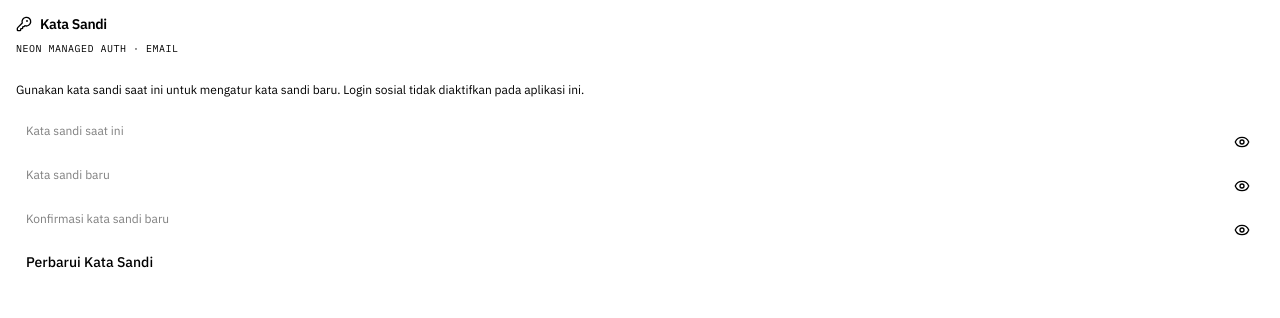
Test: Formulir kata sandi Neon Auth › menolak kata sandi baru yang pendek atau tidak cocok
Type "lama1234" into the password field with placeholder "Kata sandi saat ini" at (640, 130), box [16,114,1264,146]
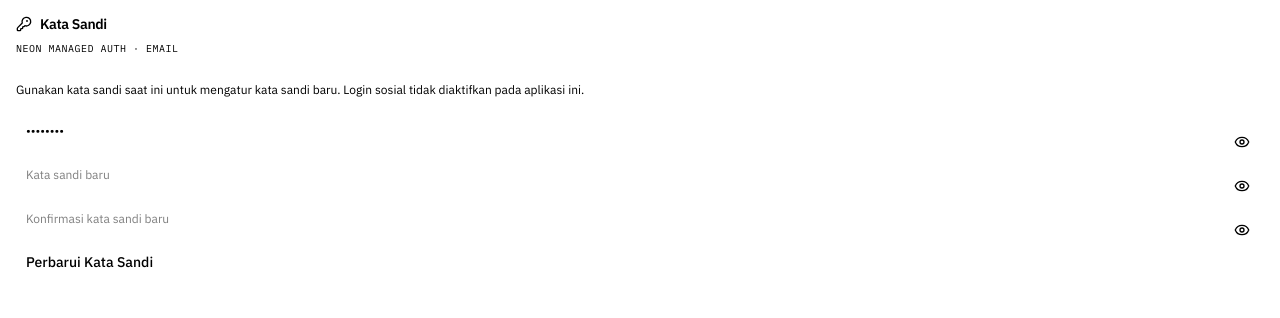
Type "pendek" into the password field with placeholder "Kata sandi baru" at (640, 174), box [16,158,1264,190]
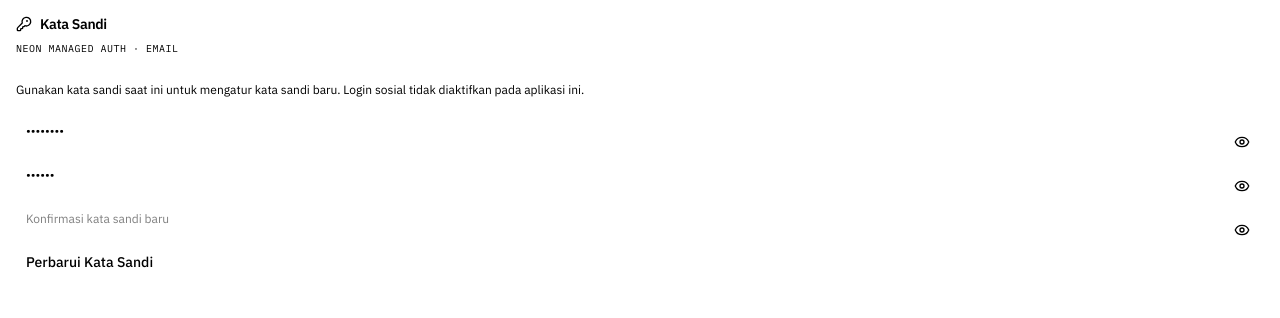
Type "berbeda" into the password field with placeholder "Konfirmasi kata sandi baru" at (640, 218), box [16,202,1264,234]
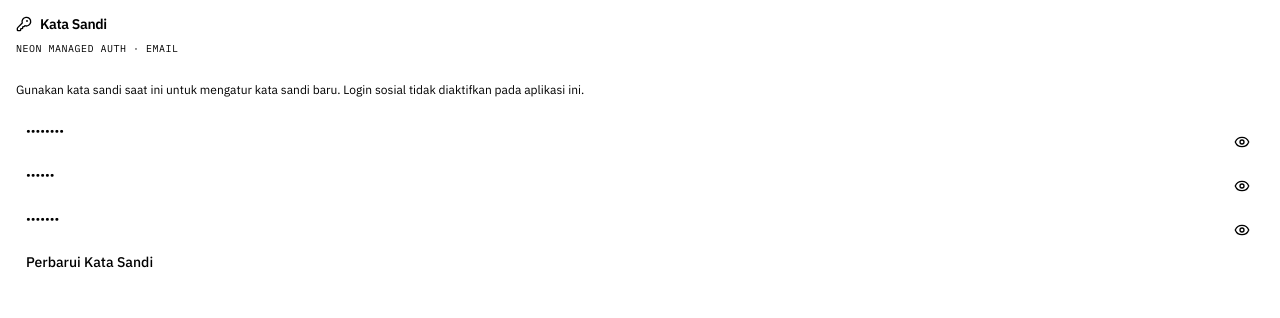
Submit the form with placeholder "Kata sandi saat ini", box [16,114,1264,278]
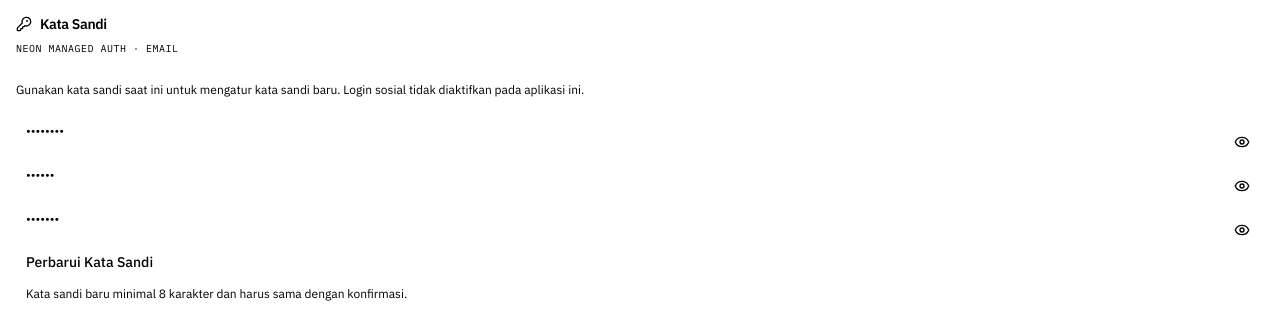
Check: the text "Kata sandi baru minimal 8 karakter dan harus sama dengan konfirmasi." is shown, box [26,286,407,301]
